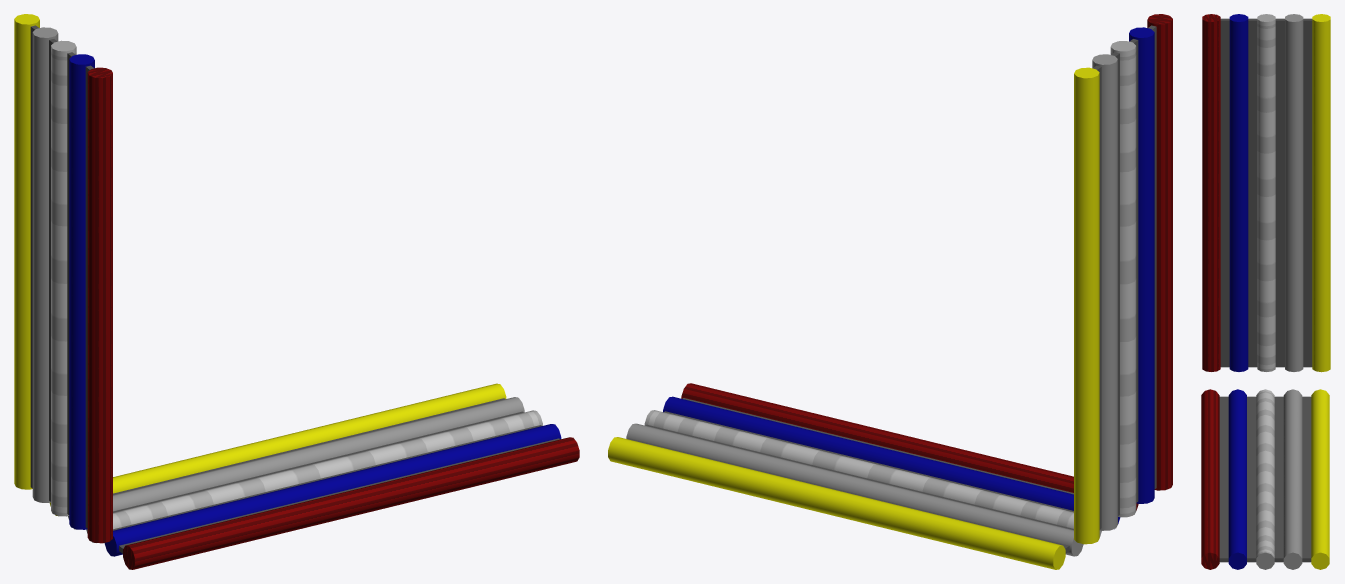
File: CABLES RGB STRAIGHT.fbx
3 renders of one model, left to right at view 1: azimuth 30°, elevation 25°; view 2: azimuth 150°, elevation 25°; view 3: azimuth 270°, elevation 25°, orthographic. The views are drawn at different scales.
Visible parts, largest first — view 1: shoyos_cables1.001, shoyos_cables1; view 2: shoyos_cables1.001, shoyos_cables1; view 3: shoyos_cables1.001, shoyos_cables1.
Part boxes in pixels (x1,y1,x2,y2): shoyos_cables1.001: [14, 14, 112, 543]; shoyos_cables1: [49, 383, 579, 569]; shoyos_cables1.001: [1074, 14, 1172, 544]; shoyos_cables1: [608, 383, 1138, 569]; shoyos_cables1.001: [1202, 14, 1330, 372]; shoyos_cables1: [1201, 389, 1329, 569].
Bounding box in the file's own units: 435 × 432 × 134.
